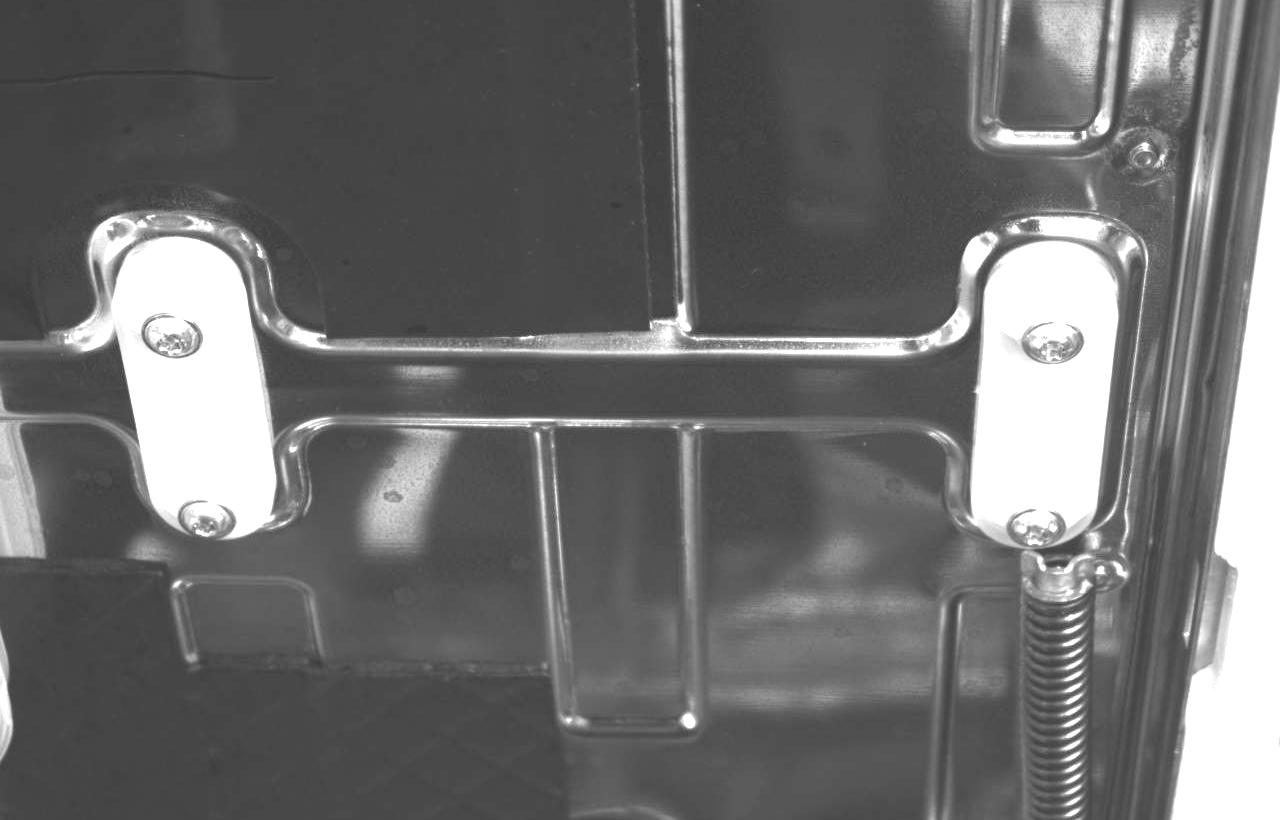vida-ok: (131, 299, 217, 377), (1006, 306, 1094, 378), (173, 484, 251, 548), (993, 495, 1069, 553)
